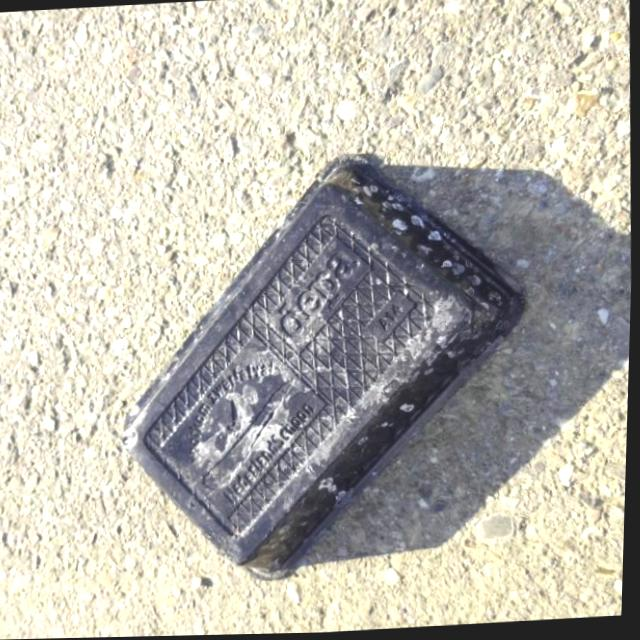Plastic: (108, 141, 545, 589)
